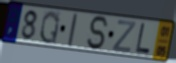8: (20, 9, 39, 42)
I: (66, 13, 79, 48)
L: (134, 22, 151, 56)
Q: (38, 9, 61, 46)
S: (86, 15, 111, 52)
Z: (110, 19, 137, 54)
